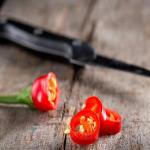Pisau: (0, 12, 150, 78)
